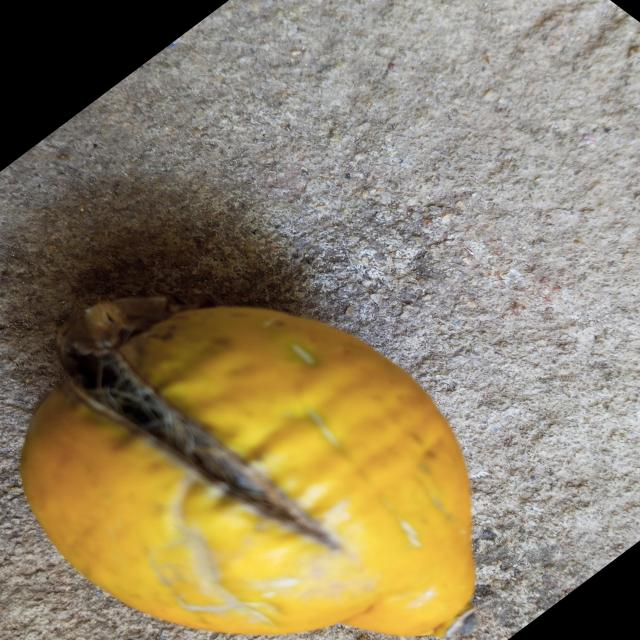damaged: (21, 297, 475, 636)
